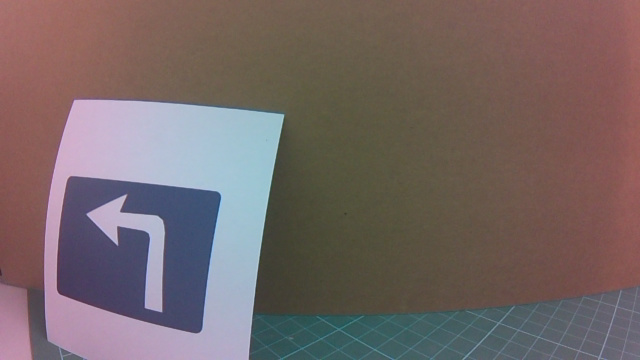left: (59, 161, 251, 332)
